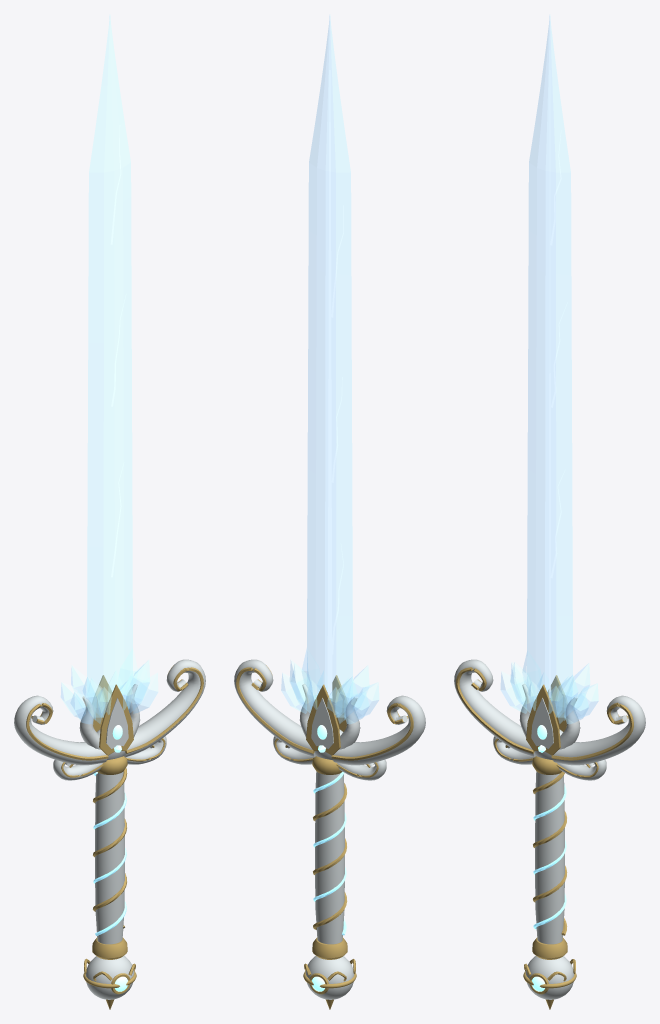
File: wp-sword-ice.glb
The picture shows the model from 3 angles, left to right: view 1: azimuth 30°, elevation 25°; view 2: azimuth 150°, elevation 25°; view 3: azimuth 330°, elevation 25°; orthographic projection.
Visible parts, largest first — view 1: wp-sword-ice; view 2: wp-sword-ice; view 3: wp-sword-ice.
Part boxes in pixels (x1,y1,x2,y2): wp-sword-ice: (14,15,205,1009); wp-sword-ice: (234,15,425,1009); wp-sword-ice: (454,15,645,1009).
Bounding box in the file's own units: 0.2433 × 1.23 × 0.06.
